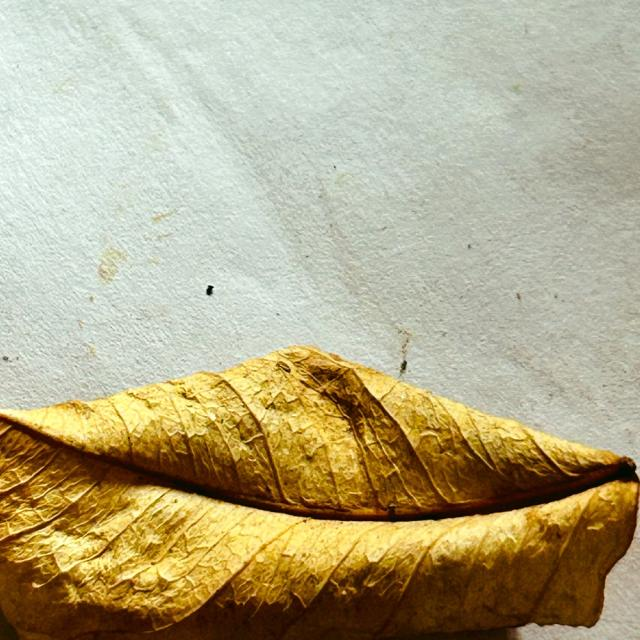DryLeaf_Lemon: (0, 346, 639, 638)
